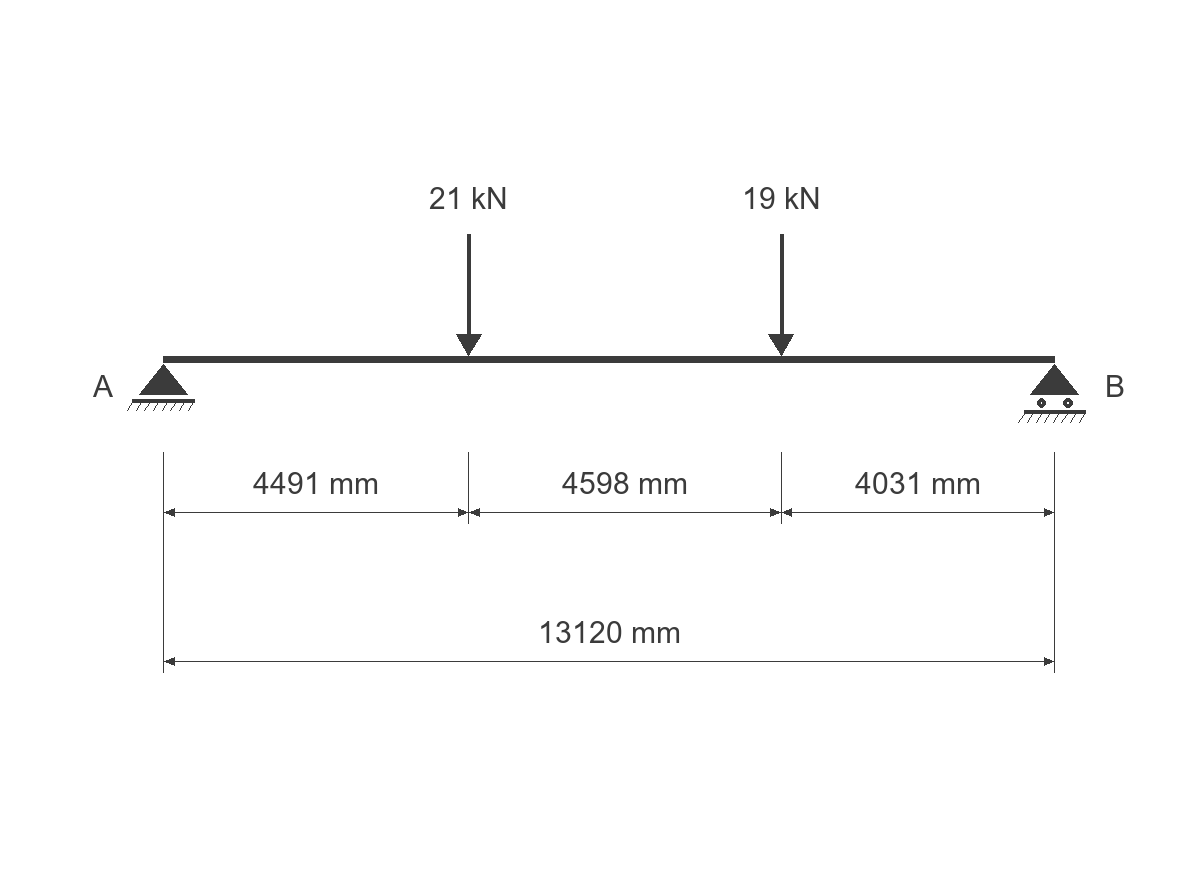pin_support: (127, 364, 195, 411)
point_load: (456, 234, 482, 356), (768, 234, 794, 356)
roller_support: (1018, 364, 1086, 423)
